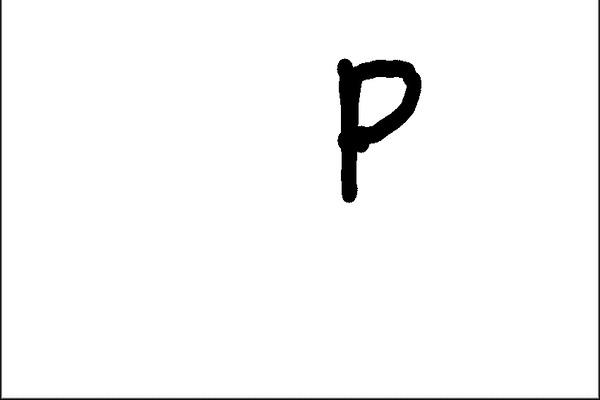P: (322, 47, 430, 213)
